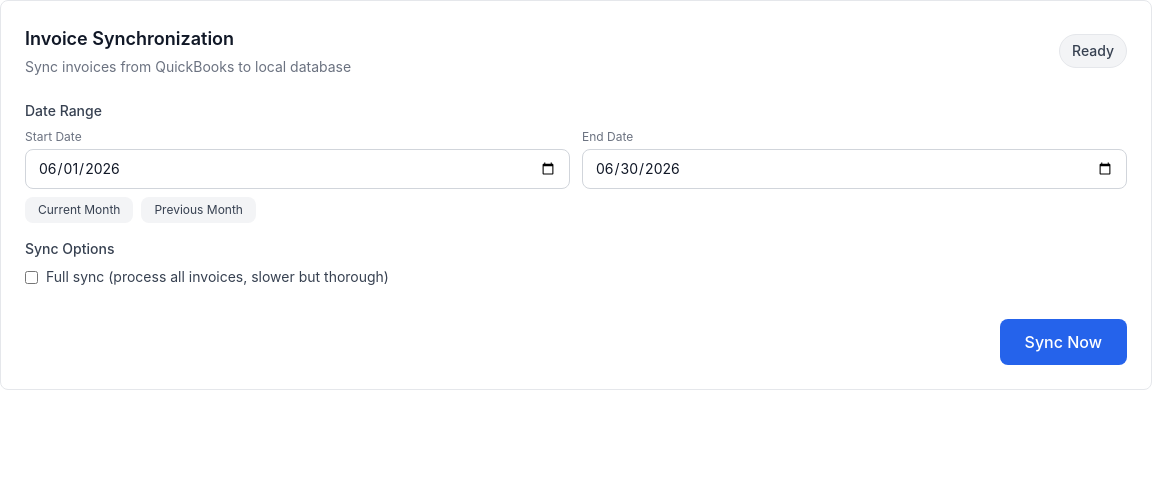
Test: QuickBooksSyncPanel - Error Handling › should show retry button on error
The width and height of the screenshot is (1152, 497).
Click the button "Sync Now".
click(1063, 342)  # box [1000,319,1127,365]
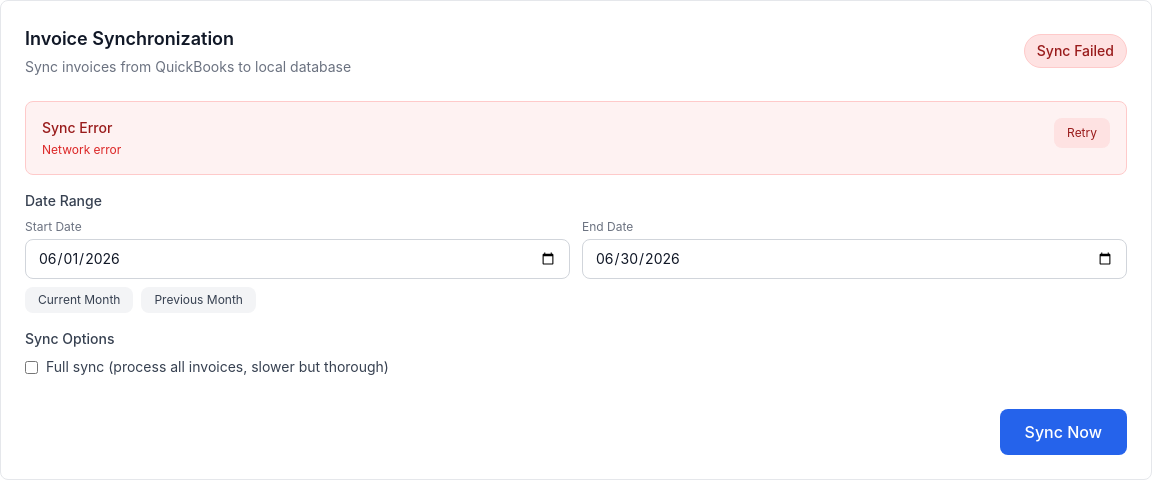
Result: the button "Retry" is shown at [1054,118,1110,148]
